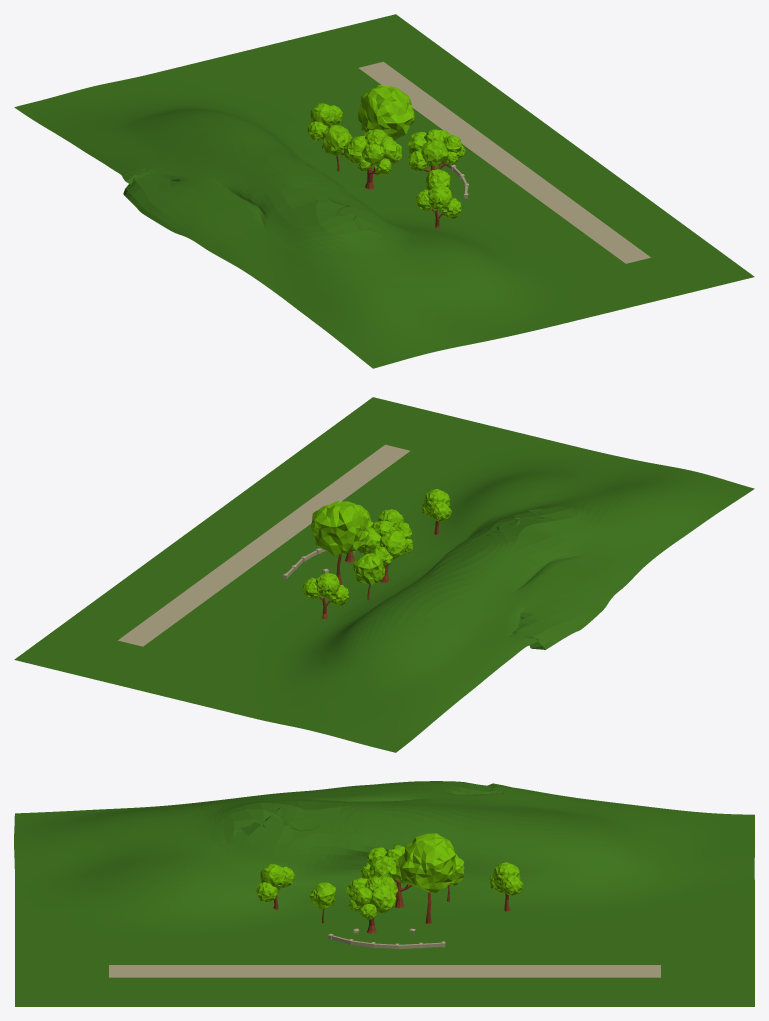
The model's file is stage1.fbx.
3 views of the same model, one above another, from view 1: azimuth 30°, elevation 25°; view 2: azimuth 150°, elevation 25°; view 3: azimuth 270°, elevation 25° (orthographic). The views are drawn at different scales.
Parts seen in each view (by area): view 1: ground, ground.001, Tree.005, Tree.006, Tree.3, Tree.004, Tree.2, Tree.007; view 2: ground, ground.001, Tree.005, Tree.006, Tree.2, Tree.007, Tree.004; view 3: ground, ground.001, Tree.005, Tree.3, Tree.006, Tree.004, Tree.2, Tree.1.
Boxes of the visible parts, bbox=[...] form: ground: bbox=[14, 14, 754, 368]; ground.001: bbox=[359, 61, 650, 263]; Tree.005: bbox=[358, 85, 414, 140]; Tree.006: bbox=[343, 129, 402, 189]; Tree.3: bbox=[407, 129, 465, 172]; Tree.004: bbox=[415, 185, 461, 228]; Tree.2: bbox=[307, 103, 342, 148]; Tree.007: bbox=[322, 125, 352, 171]; ground: bbox=[14, 397, 754, 752]; ground.001: bbox=[118, 444, 410, 646]; Tree.005: bbox=[311, 500, 368, 584]; Tree.006: bbox=[357, 520, 412, 582]; Tree.2: bbox=[302, 572, 348, 618]; Tree.007: bbox=[353, 553, 384, 599]; Tree.004: bbox=[421, 489, 451, 534]; ground: bbox=[14, 781, 754, 1006]; ground.001: bbox=[109, 965, 660, 977]; Tree.005: bbox=[398, 833, 456, 924]; Tree.3: bbox=[346, 875, 397, 933]; Tree.006: bbox=[361, 845, 412, 908]; Tree.004: bbox=[256, 864, 294, 909]; Tree.2: bbox=[489, 862, 523, 911]; Tree.1: bbox=[309, 882, 335, 923].
Size of the model in its own units: 14381 by 2835 by 21788.
